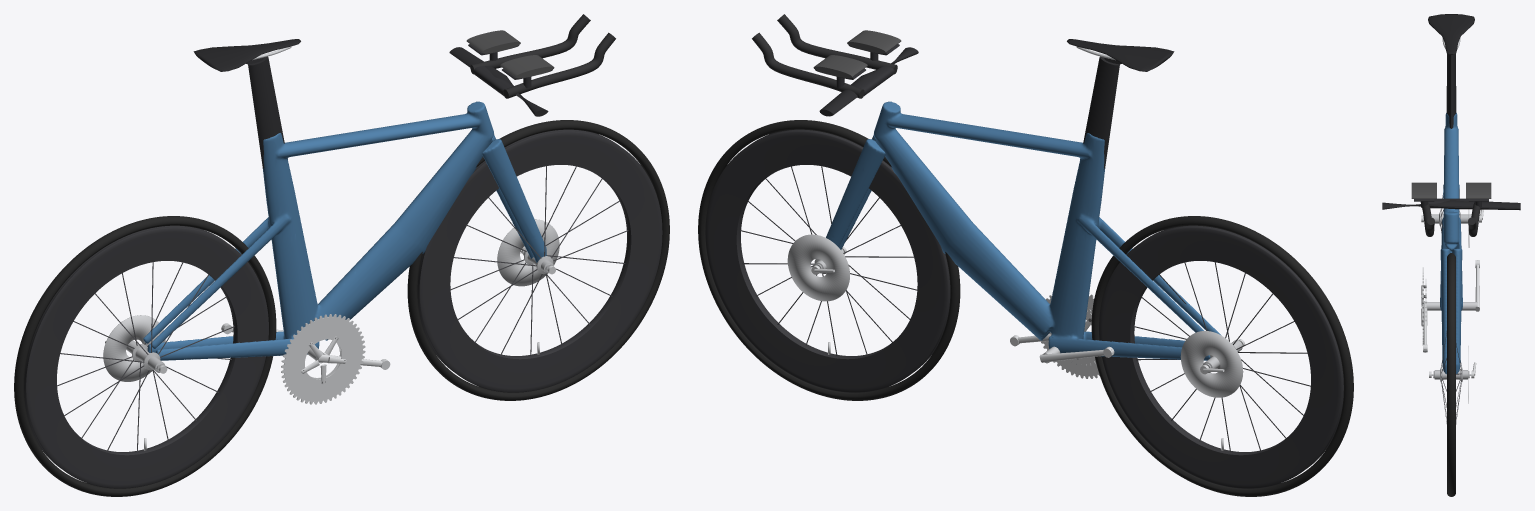
File: speedmax_web.glb
3 renders of one model, left to right at view 1: azimuth 30°, elevation 25°; view 2: azimuth 150°, elevation 25°; view 3: azimuth 270°, elevation 25°, orthographic. The views are drawn at different scales.
Parts seen in each view (by area): view 1: frame, rim_rear, rim_front, tyre_rear, tyre_front, clipons, chainrings, fork, spokes_front, spokes_rear, rotor_rear, seatpost (+4 smaller); view 2: frame, rim_rear, rim_front, tyre_rear, tyre_front, clipons, rotor_front, rotor_rear, fork, seatpost, spokes_rear, spokes_front (+4 smaller); view 3: tyre_front, frame, clipons, fork, saddle, basebar, crank_arms, seatpost, spokes_front, hub_front, chainrings, hub_rear.
Boxes of the visible parts, x1=… form: frame: x1=143, y1=101, x2=494, y2=360; rim_rear: x1=24, y1=225, x2=268, y2=488; rim_front: x1=417, y1=129, x2=662, y2=392; tyre_rear: x1=14, y1=216, x2=276, y2=496; tyre_front: x1=407, y1=120, x2=669, y2=400; clipons: x1=466, y1=14, x2=615, y2=98; chainrings: x1=281, y1=314, x2=365, y2=404; fork: x1=482, y1=135, x2=546, y2=262; spokes_front: x1=450, y1=166, x2=628, y2=355; spokes_rear: x1=57, y1=262, x2=234, y2=451; rotor_rear: x1=103, y1=315, x2=165, y2=381; seatpost: x1=246, y1=56, x2=287, y2=169; frame: x1=873, y1=101, x2=1221, y2=360; rim_rear: x1=1099, y1=225, x2=1343, y2=488; rim_front: x1=705, y1=129, x2=950, y2=392; tyre_rear: x1=1091, y1=216, x2=1353, y2=496; tyre_front: x1=698, y1=120, x2=960, y2=400; clipons: x1=752, y1=14, x2=901, y2=98; rotor_front: x1=787, y1=234, x2=849, y2=301; rotor_rear: x1=1180, y1=331, x2=1243, y2=397; fork: x1=826, y1=135, x2=885, y2=249; seatpost: x1=1080, y1=56, x2=1121, y2=169; spokes_rear: x1=1133, y1=262, x2=1310, y2=451; spokes_front: x1=740, y1=166, x2=917, y2=355; tyre_front: x1=1447, y1=253, x2=1455, y2=496; frame: x1=1440, y1=113, x2=1462, y2=310; clipons: x1=1411, y1=182, x2=1491, y2=236; fork: x1=1440, y1=248, x2=1462, y2=374; saddle: x1=1428, y1=14, x2=1474, y2=54; basebar: x1=1382, y1=200, x2=1520, y2=210; crank_arms: x1=1421, y1=260, x2=1479, y2=352; seatpost: x1=1446, y1=53, x2=1456, y2=128; spokes_front: x1=1441, y1=331, x2=1461, y2=424; hub_front: x1=1433, y1=367, x2=1469, y2=382; chainrings: x1=1422, y1=267, x2=1426, y2=345; hub_rear: x1=1431, y1=211, x2=1471, y2=226.
Size of the model in its own units: 1.69 by 1.03 by 0.3805.
